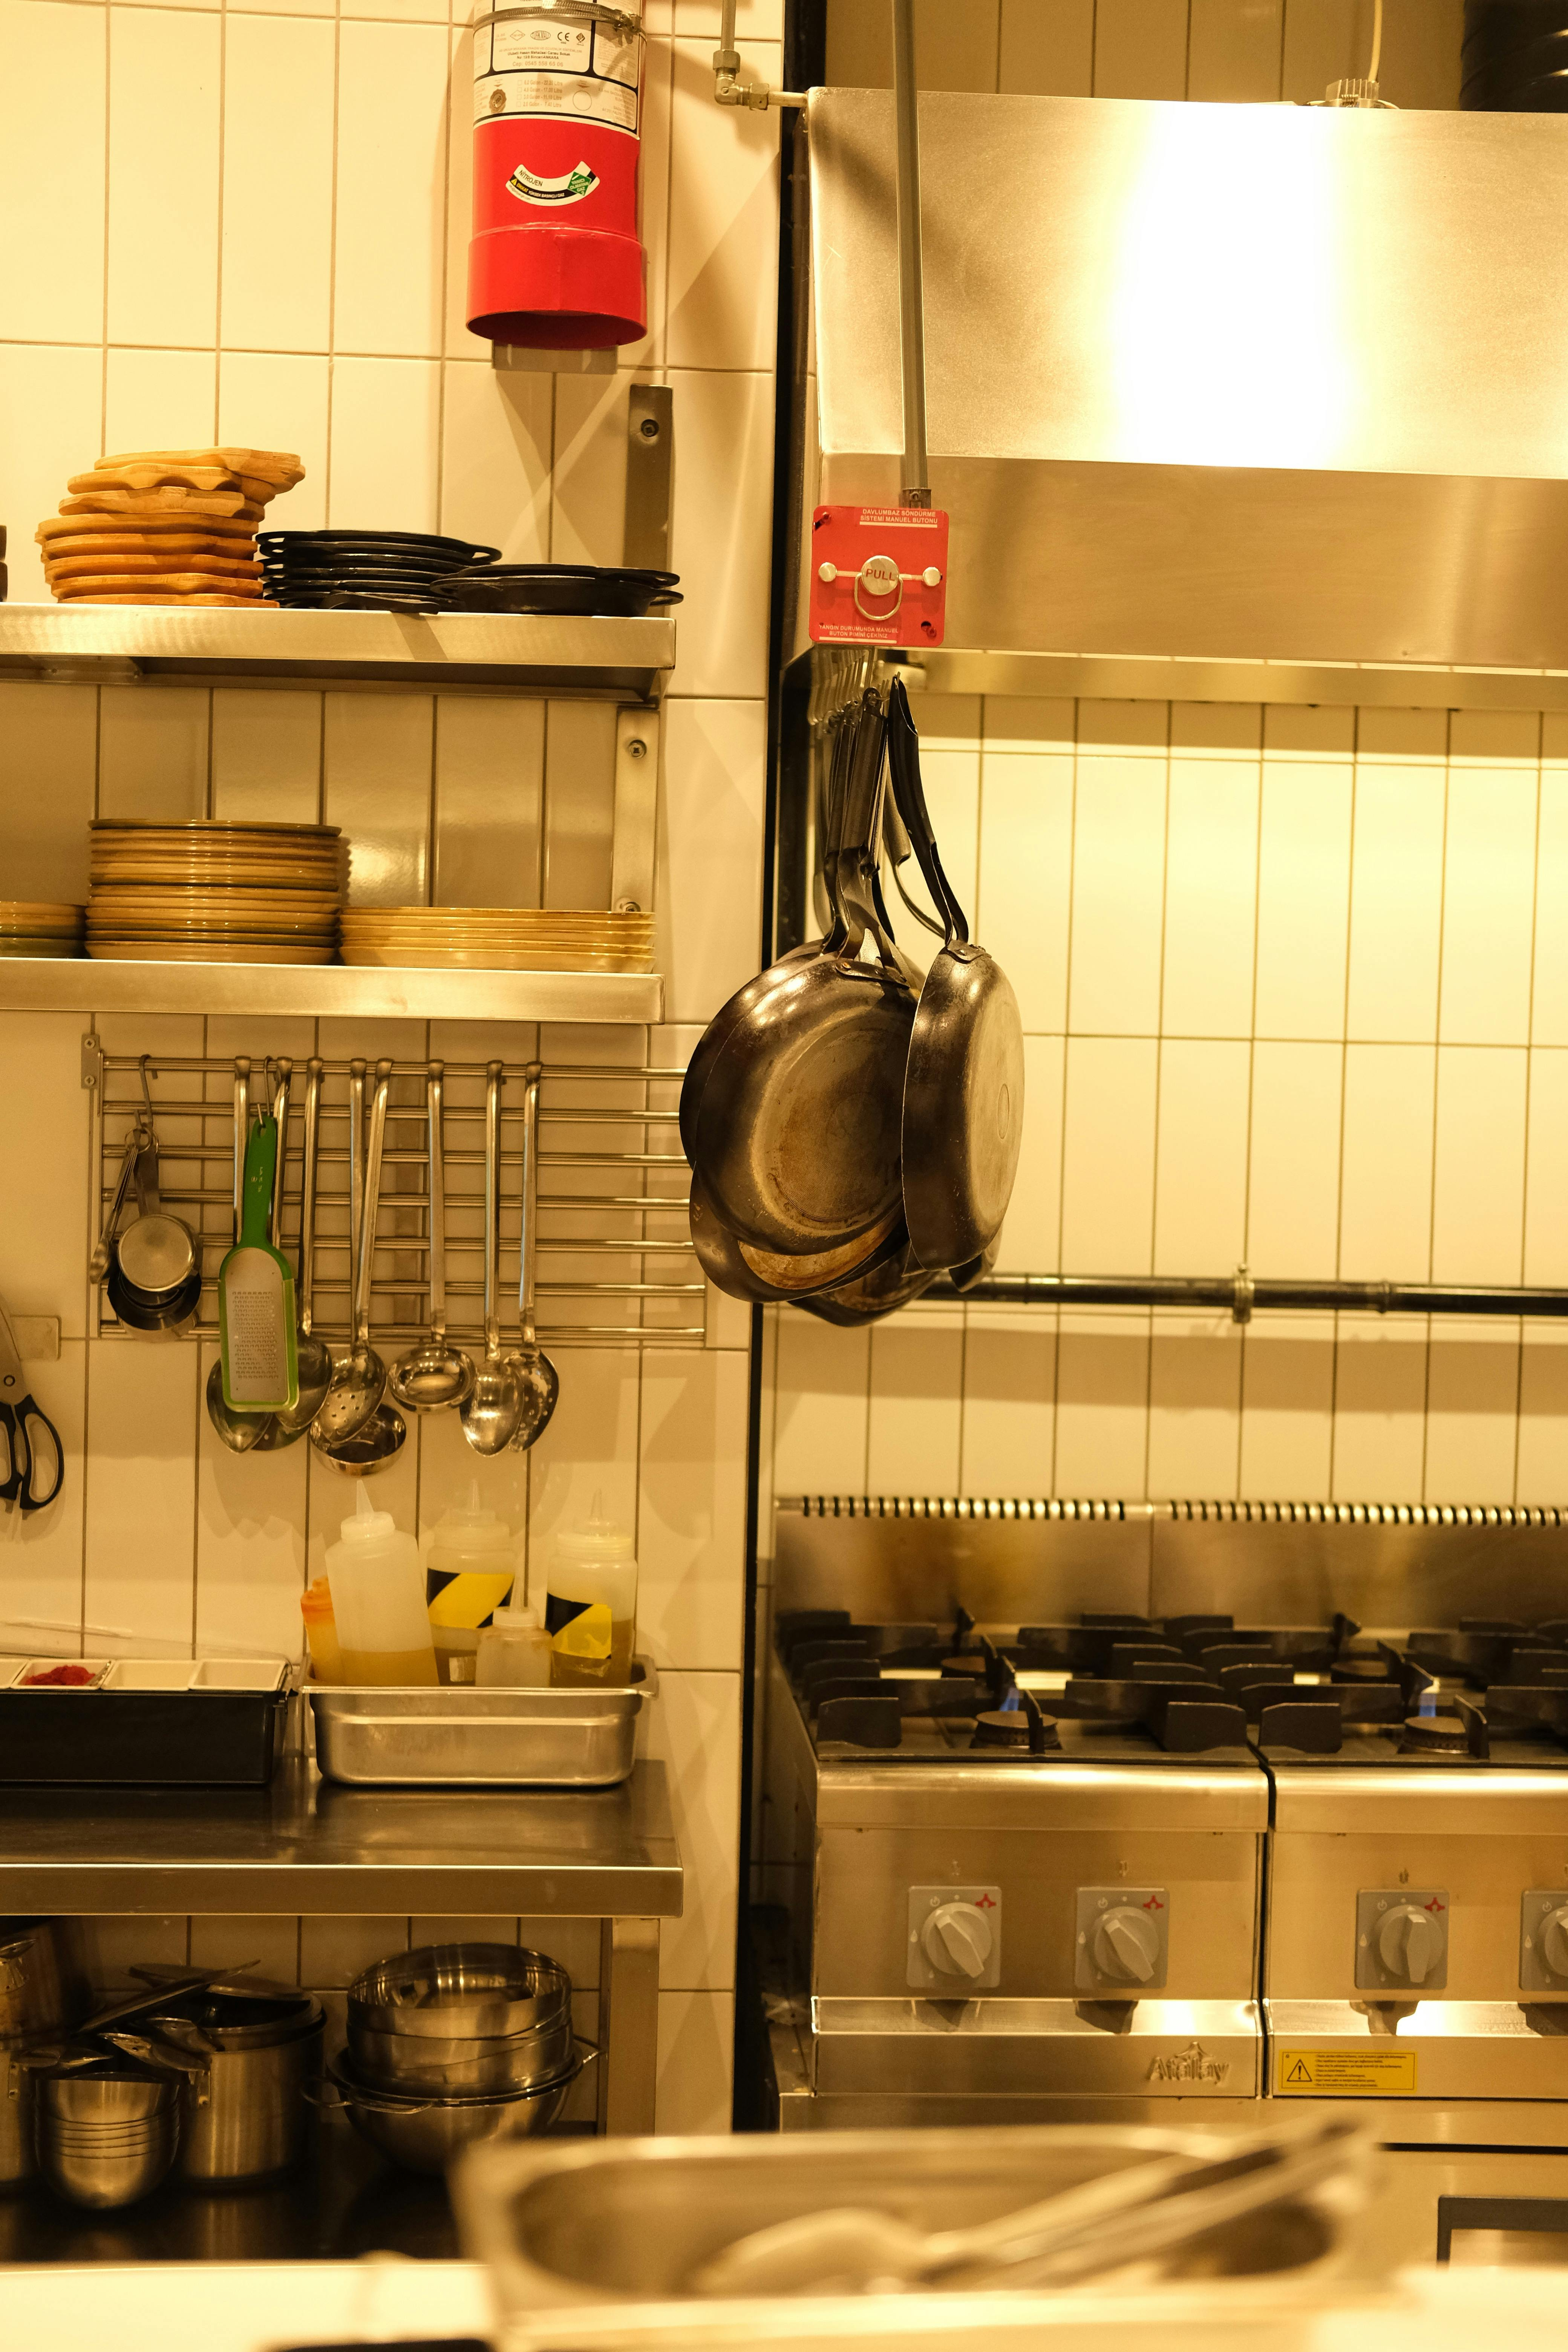extintor: (450, 5, 663, 362)
